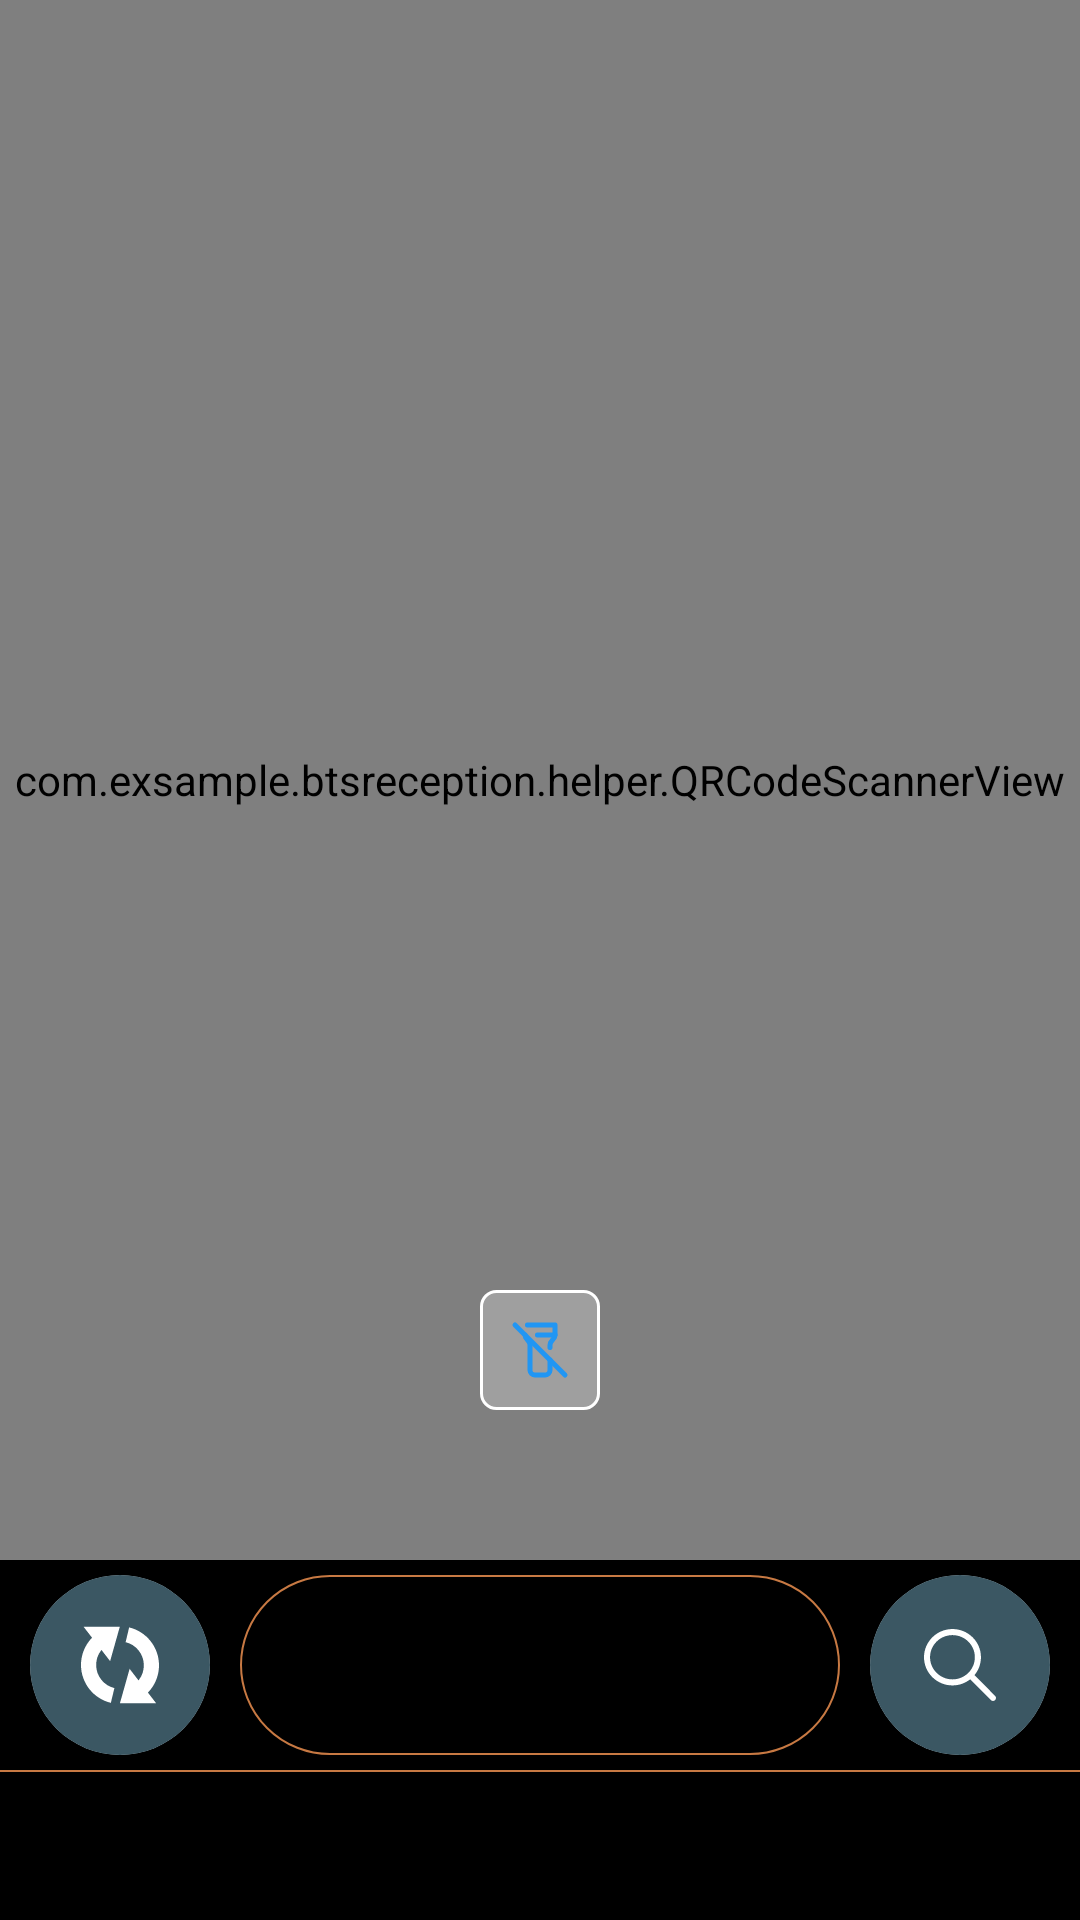

Icons on this 1080*1920 Android screen, each with the point to tap as (x,y):
flashlight off balue: (540,1350)
search: (960,1665)
transfer: (120,1665)
